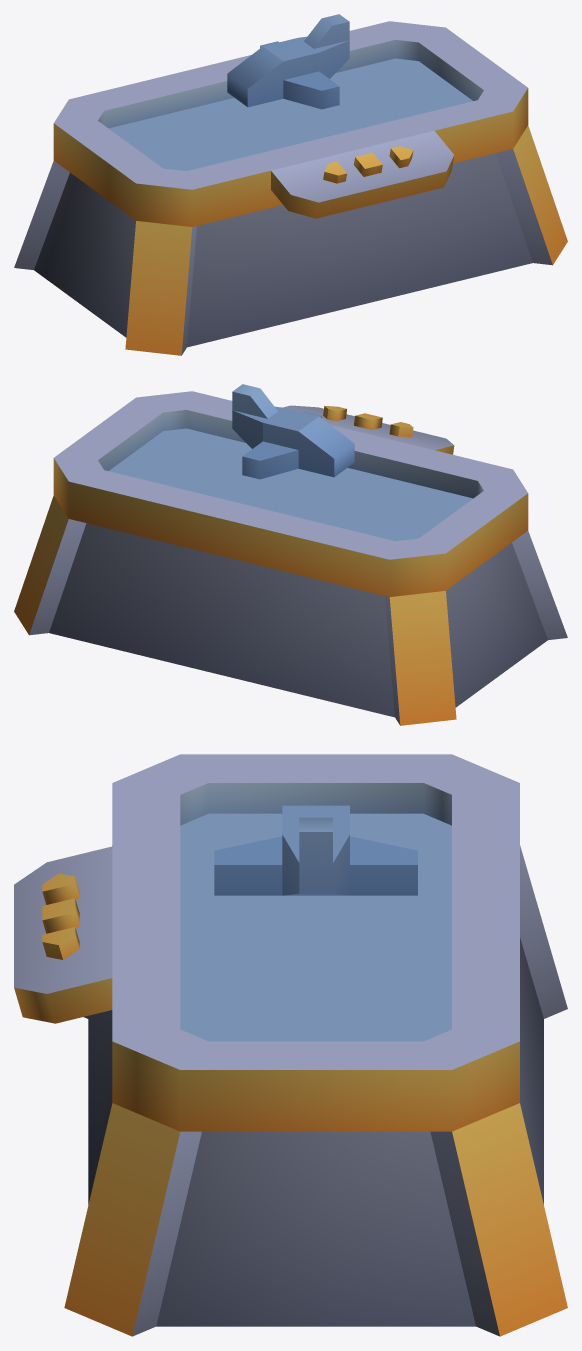
Rendered from table-display.glb.
3 views of the same model, one above another, from view 1: azimuth 30°, elevation 25°; view 2: azimuth 150°, elevation 25°; view 3: azimuth 270°, elevation 25° (orthographic). The views are drawn at different scales.
Visible parts, largest first — view 1: table-display; view 2: table-display; view 3: table-display.
Boxes of the visible parts, x1,y1,x2,y2 form: table-display: (14, 14, 567, 355); table-display: (14, 384, 567, 725); table-display: (14, 754, 567, 1336).
Size of the model in its own units: 1.24 by 0.6 by 0.8155.
